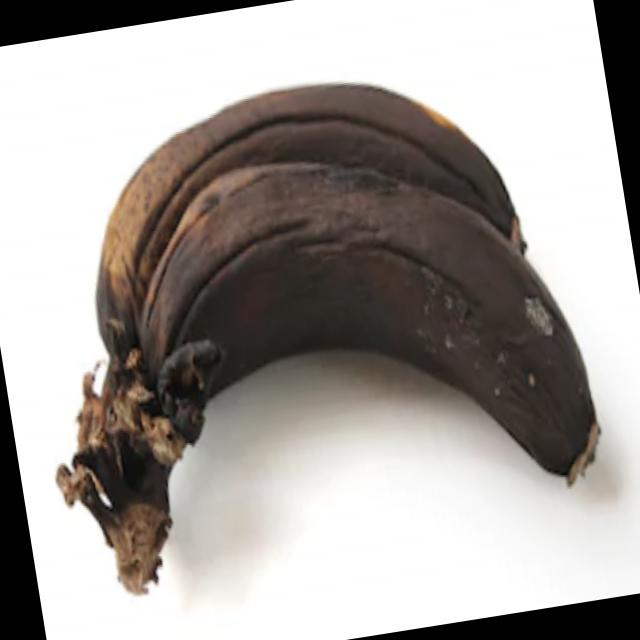rotten-banana: (91, 138, 622, 521), (60, 49, 555, 332)
